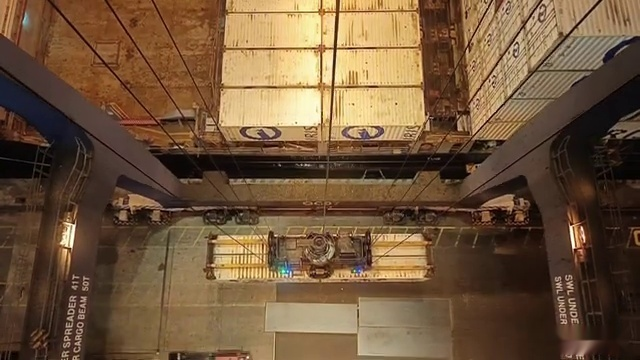container: (205, 225, 438, 283), (219, 88, 430, 142), (220, 48, 430, 88), (223, 12, 424, 47), (222, 0, 424, 23), (222, 0, 421, 20), (455, 3, 640, 24), (209, 0, 435, 17)
guide_mark: (105, 229, 539, 247), (66, 349, 560, 360)
spreader: (201, 226, 441, 286)
target_slot: (93, 306, 340, 344)
